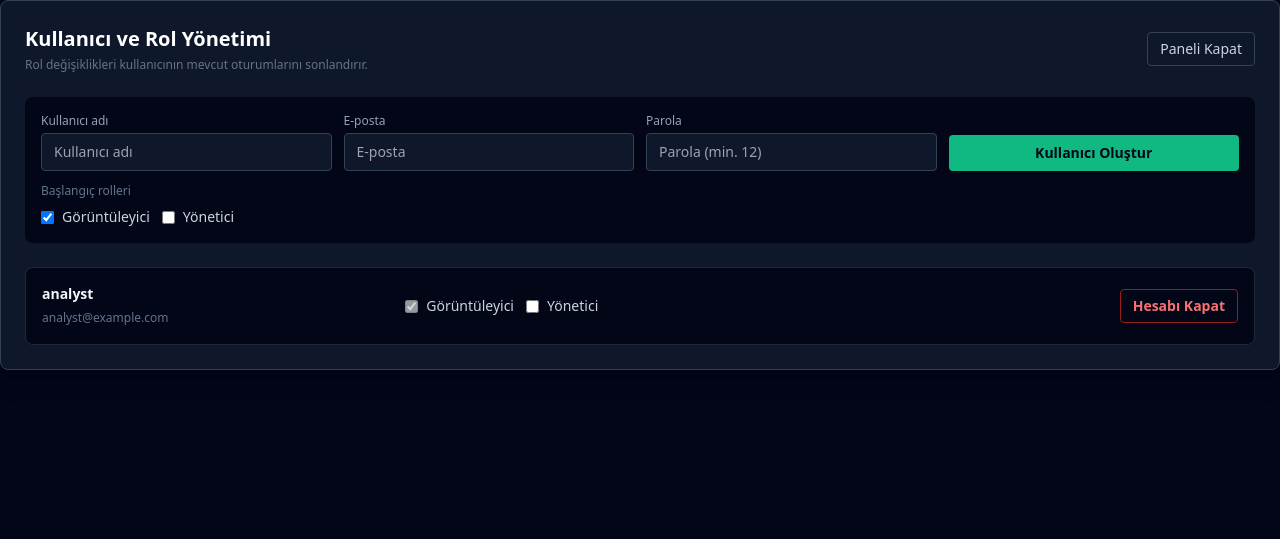
Test case: AdminPanel integration › creates a user and appends it to the visible list
Expected: the text "analyst" is shown, top-left (42, 284), bottom-right (93, 303)
Step 1. Type "new.user" into the field labelled "Kullanıcı adı" → (186, 152), box top-left (41, 133), bottom-right (332, 171)
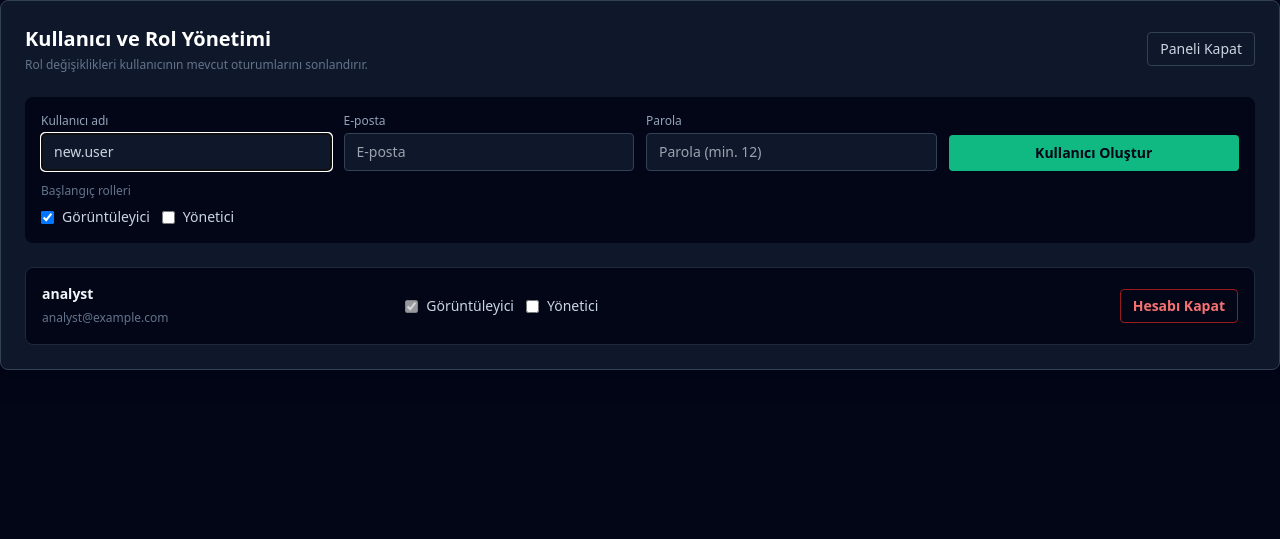
Step 2. Type "new@example.com" into the field labelled "E-posta" → (489, 152), box top-left (344, 133), bottom-right (634, 171)
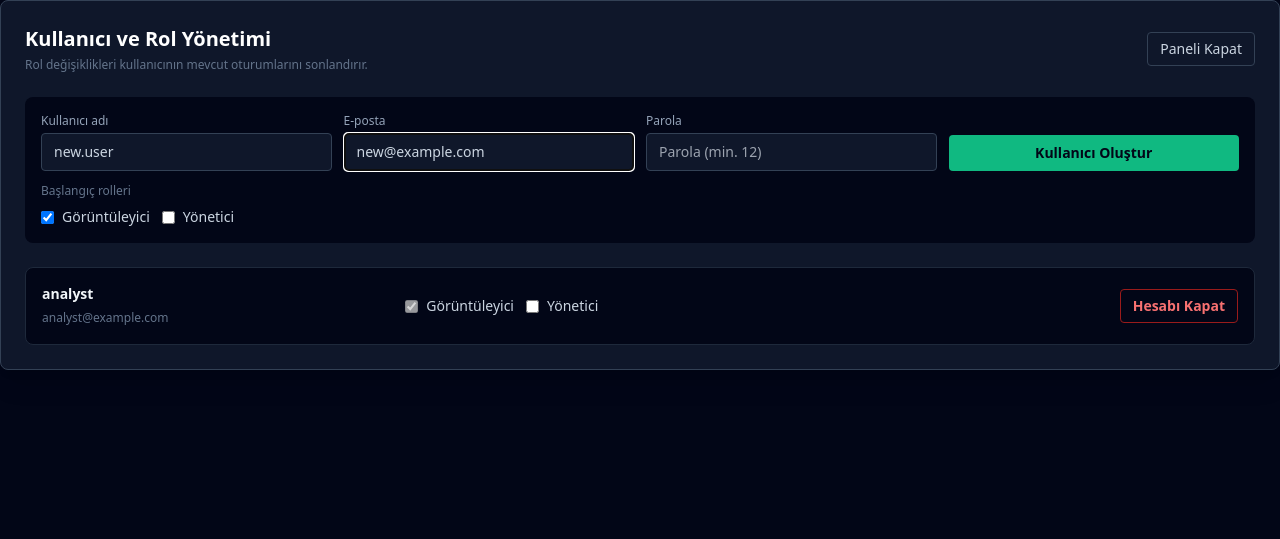
Step 3. Type "StrongPassword123!" into the password field labelled "Parola" → (791, 152), box top-left (646, 133), bottom-right (936, 171)
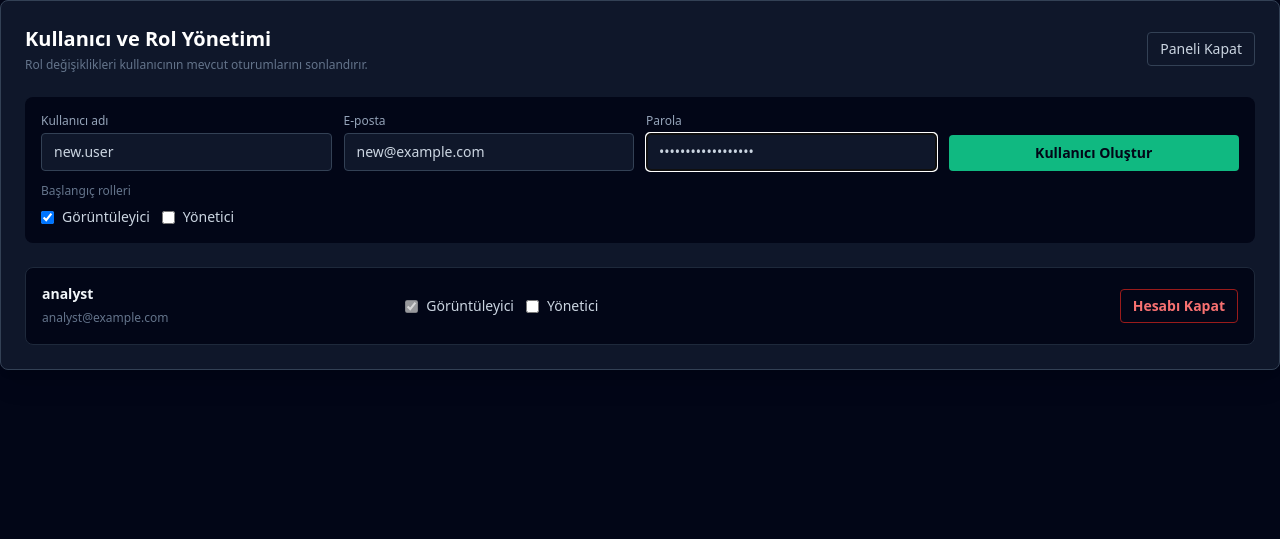
Step 4. Submit the form, box top-left (25, 97), bottom-right (1255, 243)
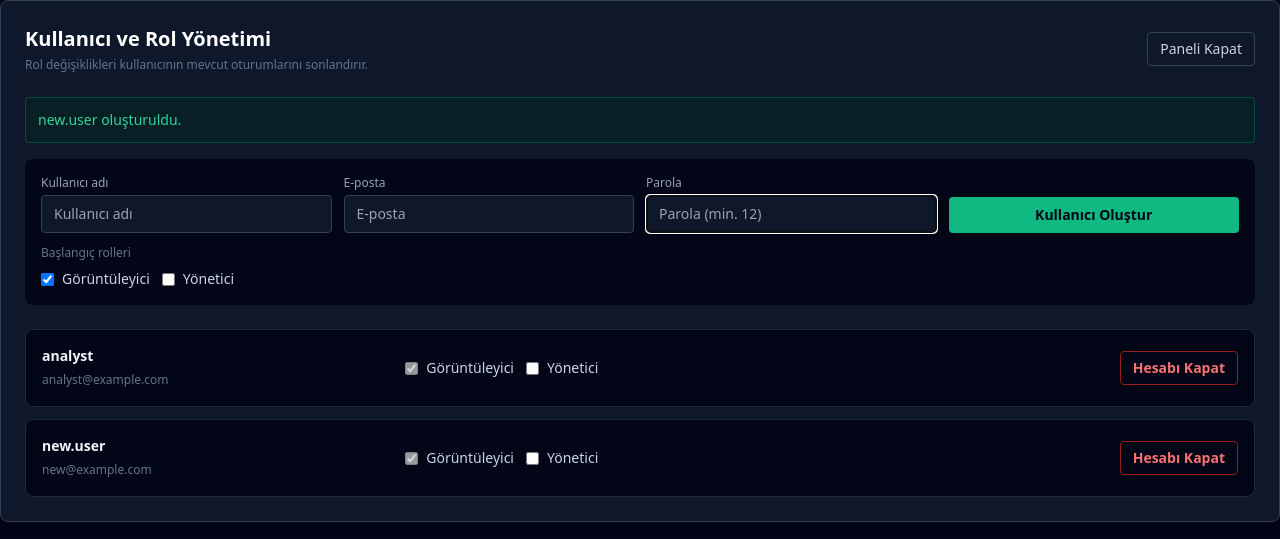
Now the text "new.user" is shown, box top-left (42, 436), bottom-right (105, 455)
